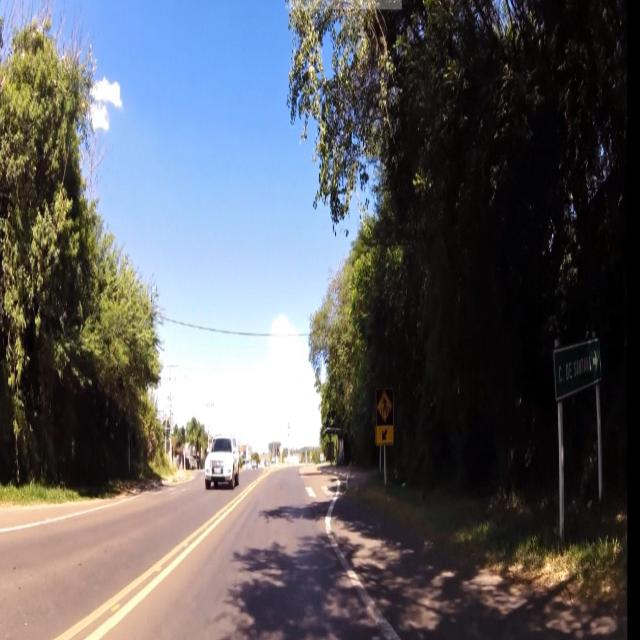A-32b: (379, 394, 393, 421)
